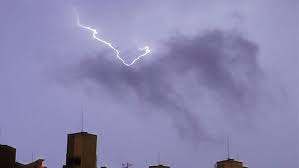sky: (2, 3, 299, 151)
